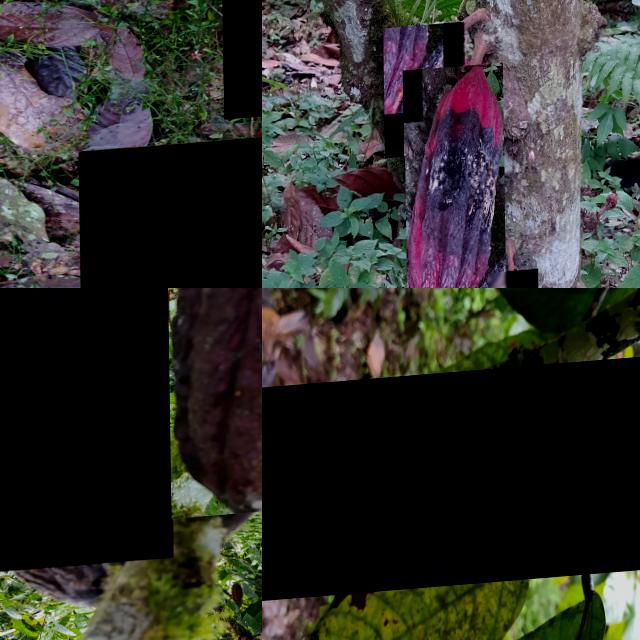Fitoftora: (0, 288, 171, 578), (77, 140, 262, 288), (165, 288, 262, 524)
Monilia: (262, 362, 640, 605), (403, 67, 504, 288), (383, 27, 464, 162)
Sana: (222, 0, 262, 123)
